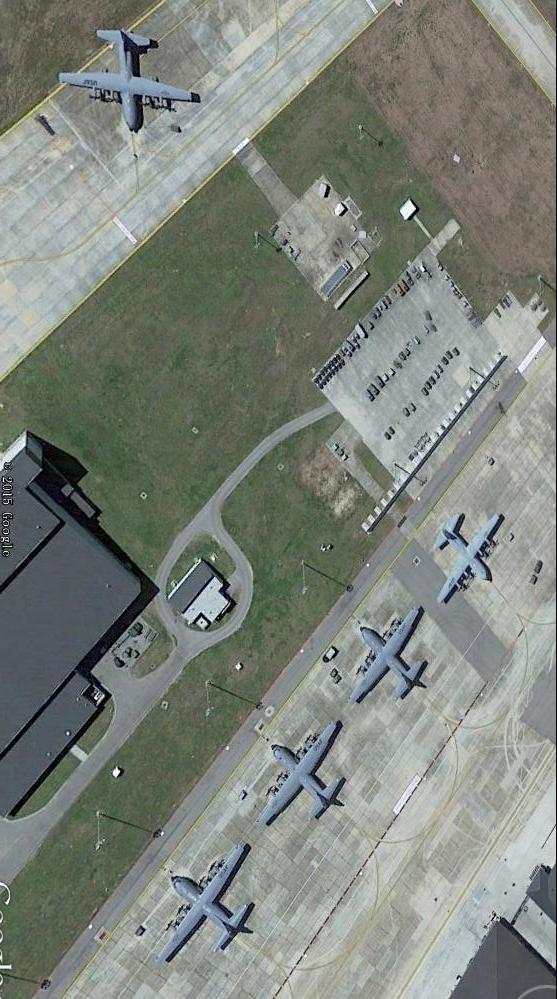C-130: (54, 21, 205, 131), (158, 841, 263, 966), (254, 717, 353, 832), (344, 601, 434, 707), (426, 505, 511, 607)
